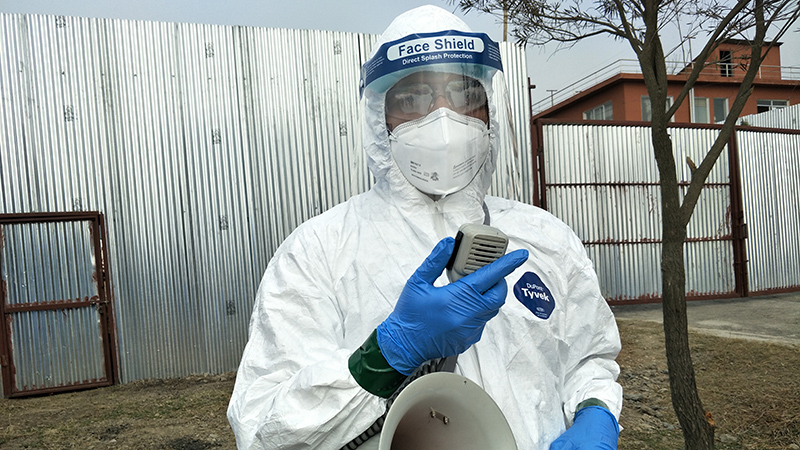Coverall: (224, 5, 623, 446)
Face_Shield: (361, 31, 533, 215)
Gloves: (377, 235, 529, 378), (549, 405, 621, 448)
Goggles: (380, 80, 492, 117)
with_mask: (389, 95, 492, 193)
